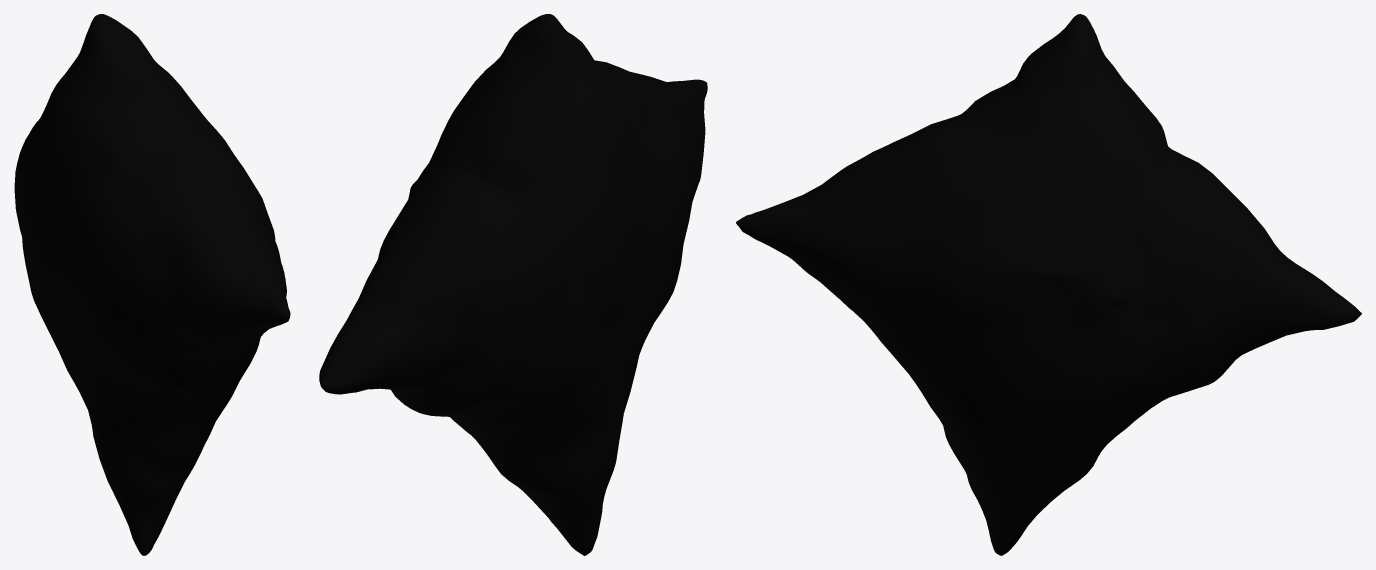
Rendered from Pillow.fbx.
The picture shows the model from 3 angles, left to right: view 1: azimuth 30°, elevation 25°; view 2: azimuth 150°, elevation 25°; view 3: azimuth 270°, elevation 25°; orthographic projection. The views are drawn at different scales.
Visible parts, largest first — view 1: Pillow; view 2: Pillow; view 3: Pillow.
Boxes of the visible parts, x1=… form: Pillow: x1=14, y1=14, x2=290, y2=555; Pillow: x1=319, y1=14, x2=707, y2=555; Pillow: x1=736, y1=14, x2=1361, y2=555.
Bounding box in the file's own units: 30.95 × 79.5 × 83.82.
1 material, 1 textured.
